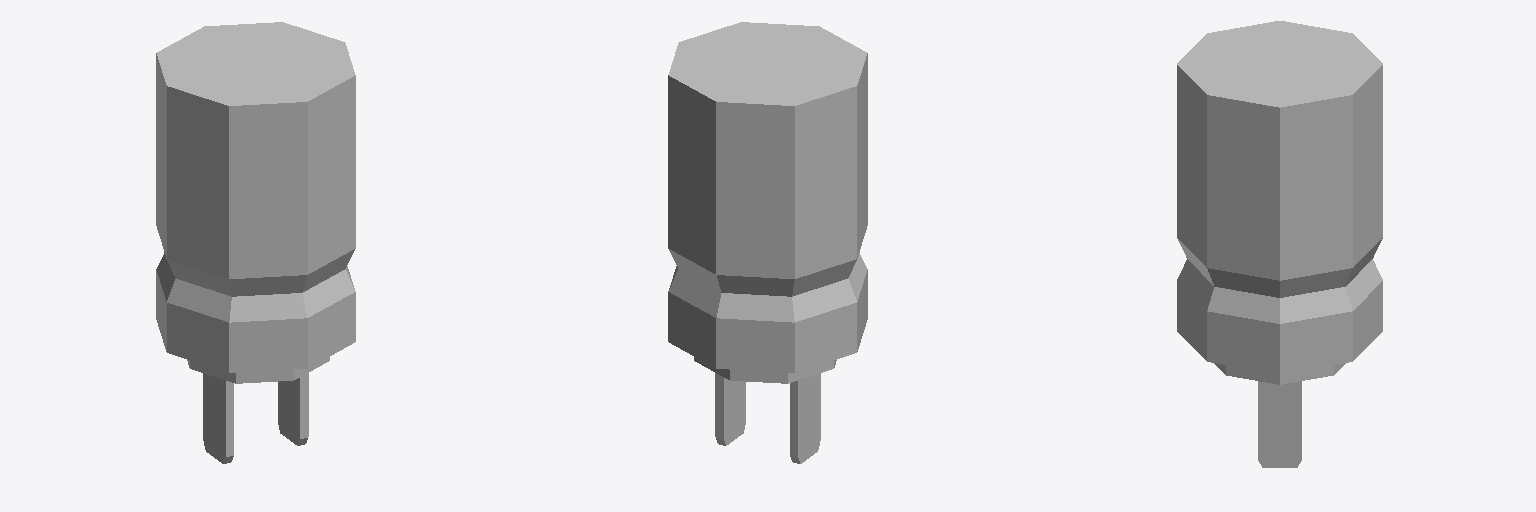
Rendered from capacitor_etx_1.obj.
3 renders of one model, left to right at view 1: azimuth 30°, elevation 25°; view 2: azimuth 150°, elevation 25°; view 3: azimuth 270°, elevation 25°, orthographic.
Parts seen in each view (by area): view 1: capacitor_etx_1; view 2: capacitor_etx_1; view 3: capacitor_etx_1.
Boxes of the visible parts, x1=… form: capacitor_etx_1: x1=156, y1=22, x2=355, y2=463; capacitor_etx_1: x1=668, y1=22, x2=867, y2=463; capacitor_etx_1: x1=1177, y1=21, x2=1382, y2=467.
Bounding box in the file's own units: 0.0518 × 0.1064 × 0.0518.